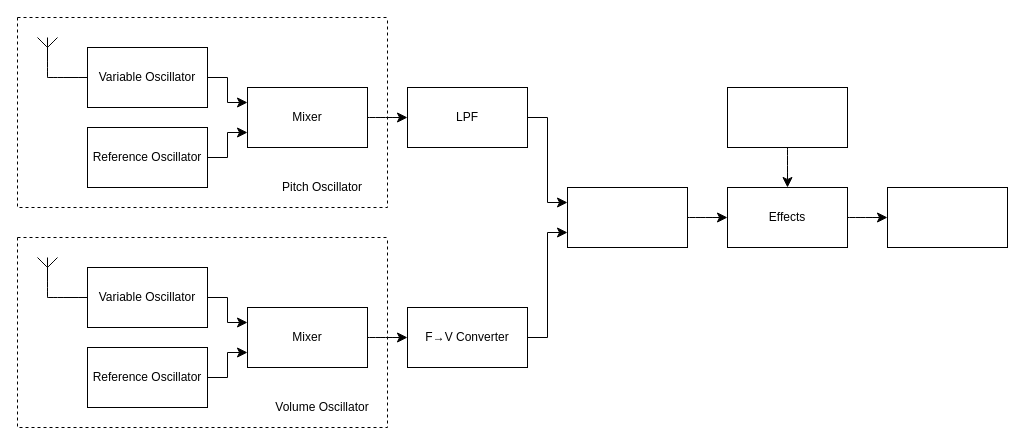
Some shapes in this 1025 by 445 pixel diagram are drawn without their labels. The centre of each missing label's shape, as x and y in pixels:
Output Audio Buffer: the point at 947,217
VCO: the point at 627,217
Volume Control and Effects Selection: the point at 787,117
